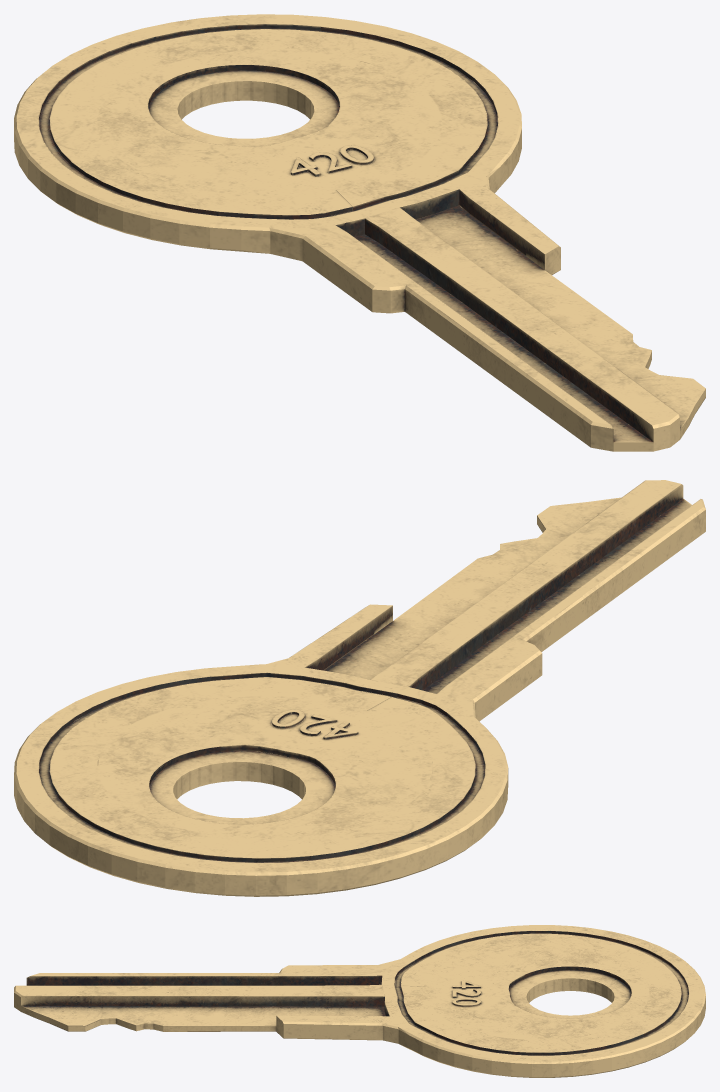
Rendered from Key.fbx.
The picture shows the model from 3 angles, top to bottom: view 1: azimuth 30°, elevation 25°; view 2: azimuth 150°, elevation 25°; view 3: azimuth 270°, elevation 25°; orthographic projection. The views are drawn at different scales.
Visible parts, largest first — view 1: key; view 2: key; view 3: key.
Boxes of the visible parts, <box> form: key: <box>14,14,705,451</box>; key: <box>14,480,705,896</box>; key: <box>14,925,705,1077</box>.
Size of the model in its own units: 283 by 16.74 by 600.
1 material, 1 textured.
